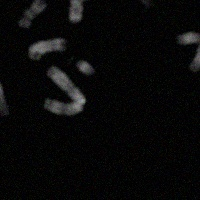chromosome: (41, 66, 86, 116), (68, 0, 115, 23), (177, 31, 200, 74), (28, 36, 66, 61), (18, 0, 45, 31), (0, 58, 10, 114), (75, 58, 97, 75), (131, 0, 156, 10), (179, 0, 200, 1)
